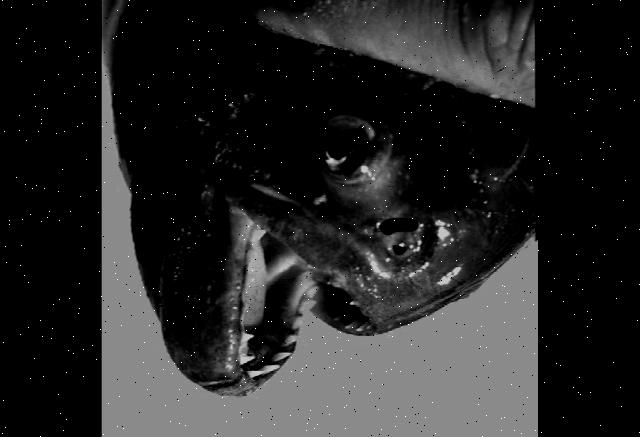Mulut: (134, 140, 460, 437)
